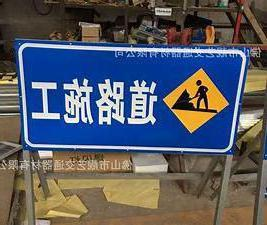sign: (16, 43, 247, 154)
